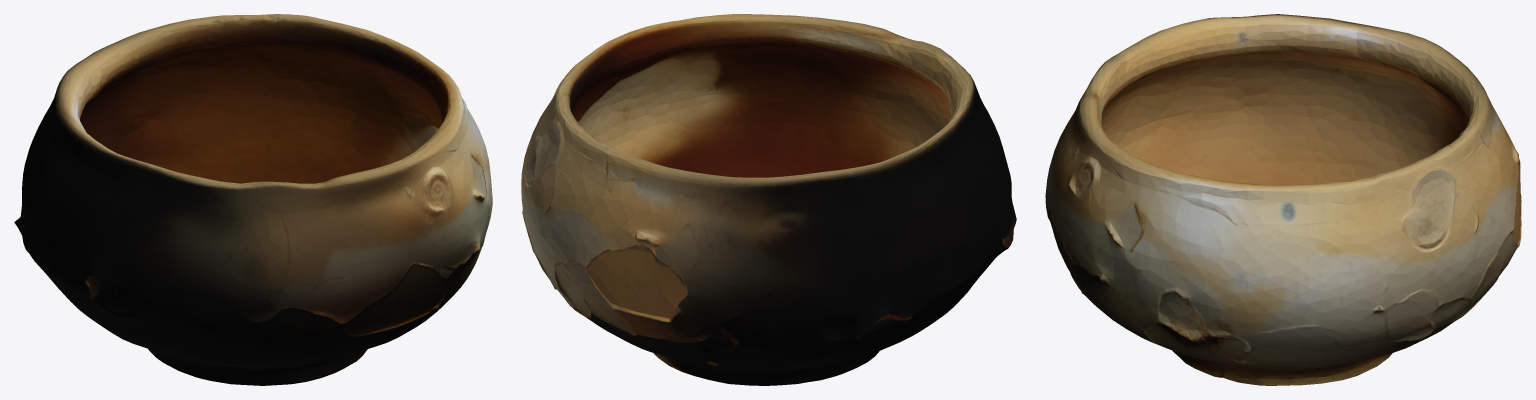
Rendered from ceramic-pottery-piece-used-rustic-worn.jpeg.glb.
3 views of the same model, side by side, from view 1: azimuth 30°, elevation 25°; view 2: azimuth 150°, elevation 25°; view 3: azimuth 270°, elevation 25° (orthographic). The views are drawn at different scales.
Parts seen in each view (by area): view 1: world; view 2: world; view 3: world.
Part boxes in pixels (x1,y1,x2,y2): world: [14, 14, 492, 385]; world: [521, 14, 1016, 385]; world: [1045, 14, 1521, 385].
Bounding box in the file's own units: 0.9993 × 0.5661 × 0.9998.
Materials: 1 (1 with a texture image).
